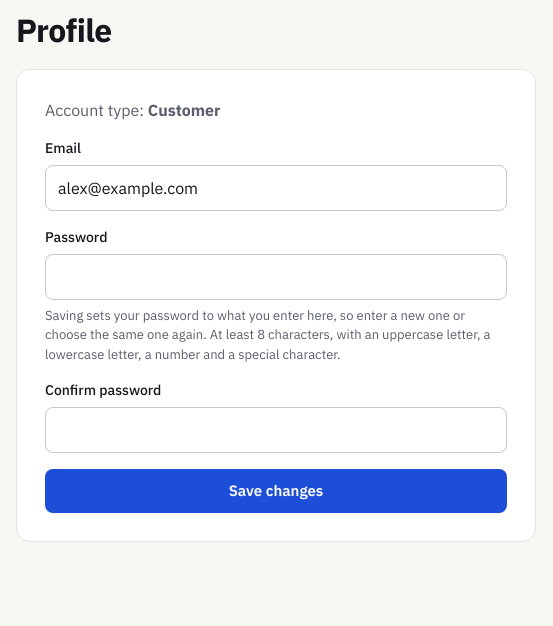
Scenario: ProfilePage › saves a new email and updates the session
The image size is (553, 626).
Replace the text in the field labelled "Email" with "alex.new@example.com" at (276, 188), box [45,165,507,211]
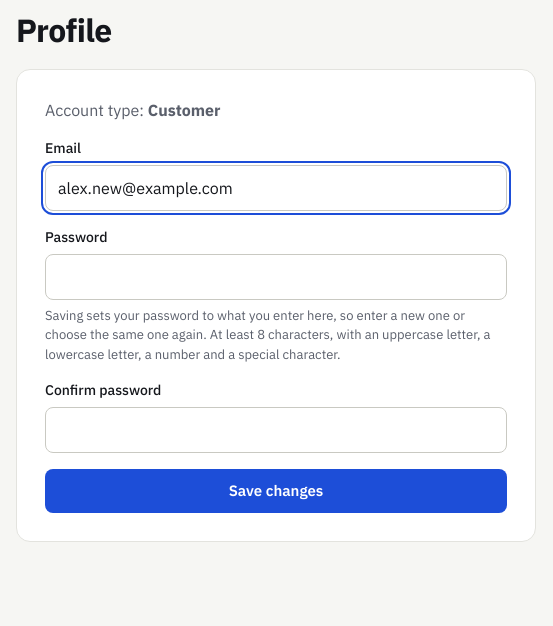
Type "Shopper1!" into the password field labelled "Password" at (276, 277), box [45,254,507,300]
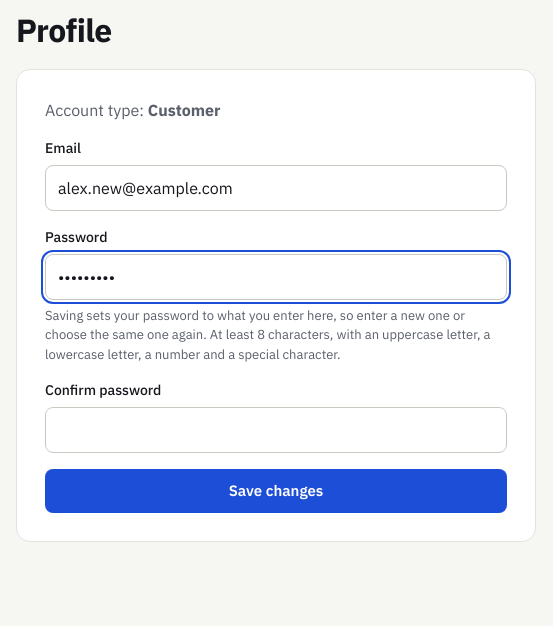
Type "Shopper1!" into the password field labelled "Confirm password" at (276, 430), box [45,407,507,453]
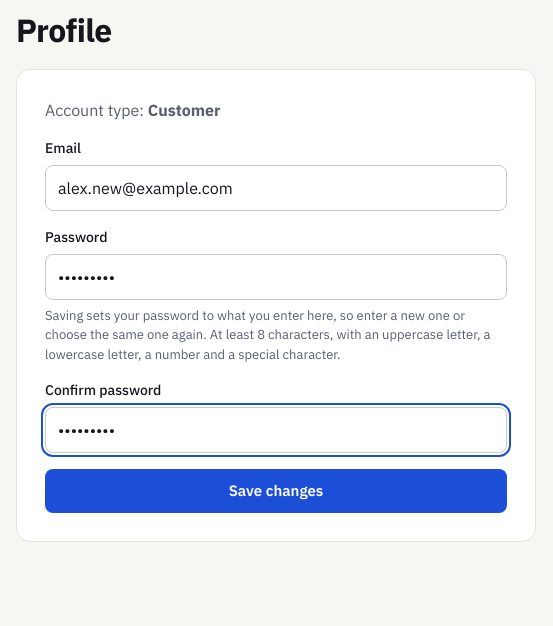
Click the button "Save changes" at (276, 491), box [45,469,507,513]
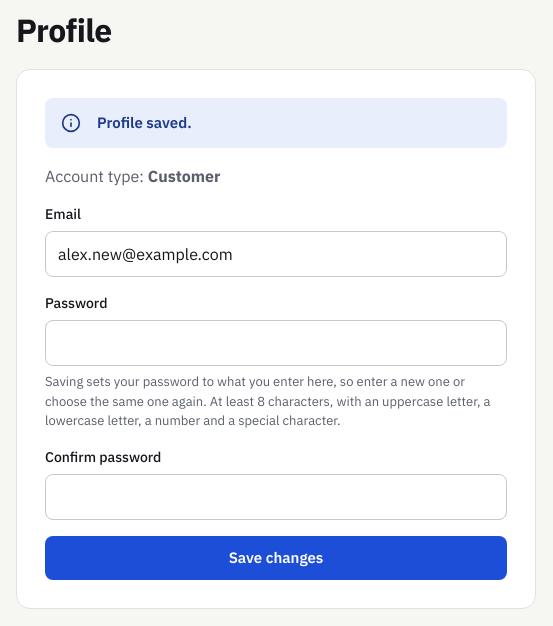
Expected: the text "Profile saved." is shown, [97,113,192,132]
